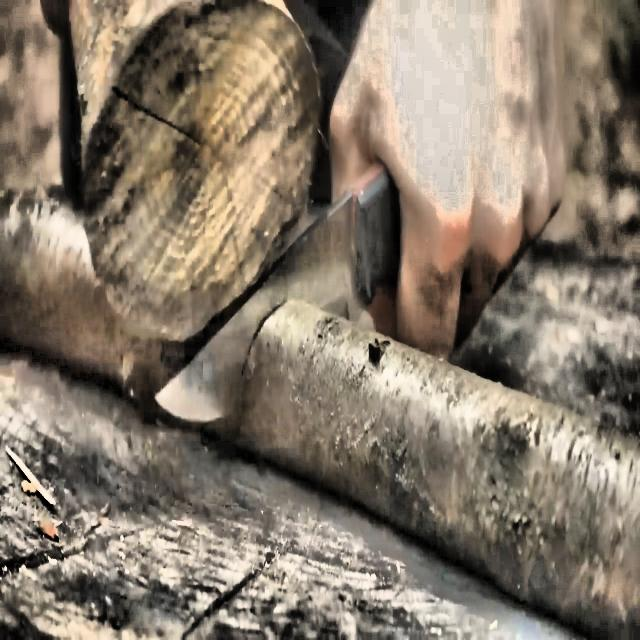knife: (154, 157, 400, 420)
